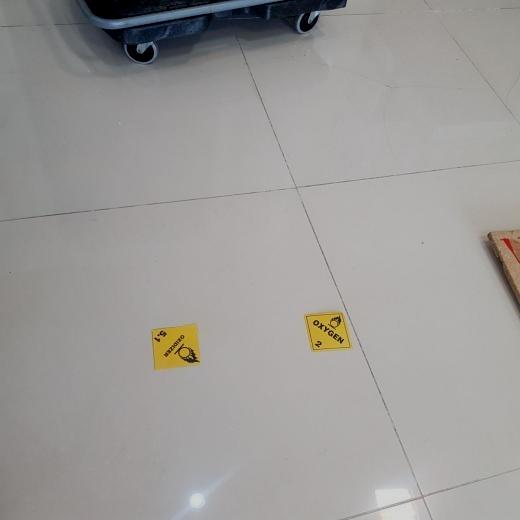oxidizer: (149, 323, 204, 373), (303, 311, 351, 352)
